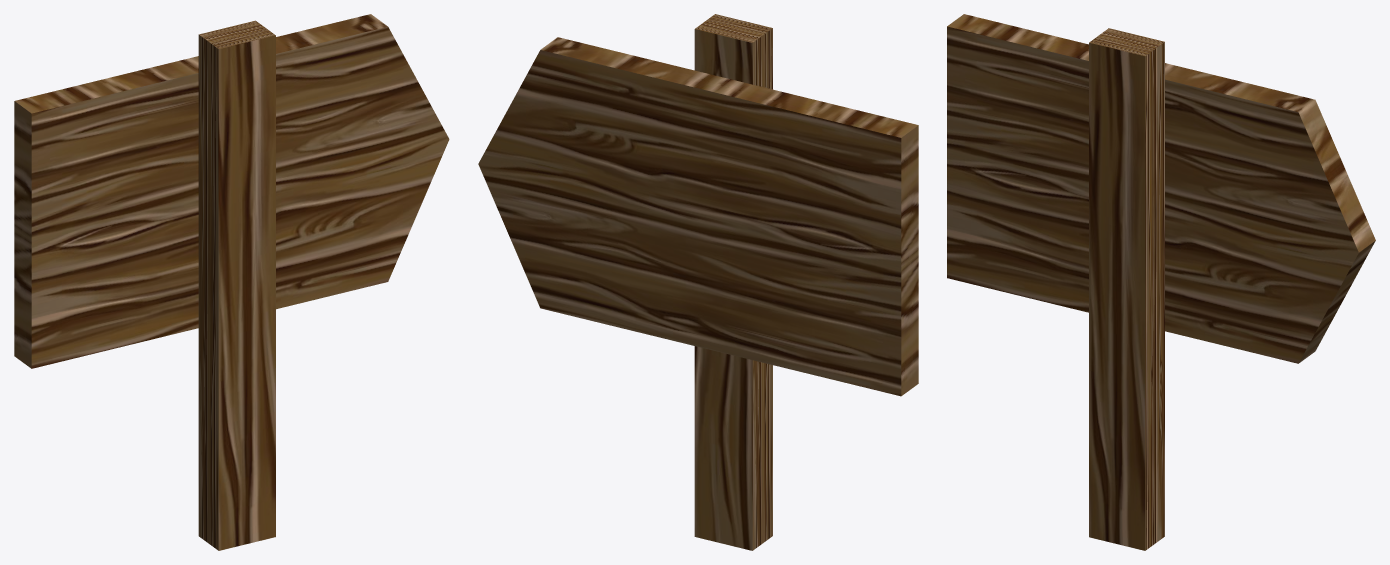
File: ArrowSign.FBX
3 renders of one model, left to right at view 1: azimuth 30°, elevation 25°; view 2: azimuth 150°, elevation 25°; view 3: azimuth 330°, elevation 25°, orthographic. The views are drawn at different scales.
Visible parts, largest first — view 1: content, pole; view 2: content, pole; view 3: content, pole.
Boxes of the visible parts, x1,y1,x2,y2 form: content: (14, 14, 449, 368); pole: (198, 20, 275, 550); content: (478, 37, 918, 396); pole: (694, 14, 772, 550); content: (947, 14, 1375, 363); pole: (1089, 28, 1164, 550).
Bounding box in the file's own units: 114 × 131 × 18.39.
